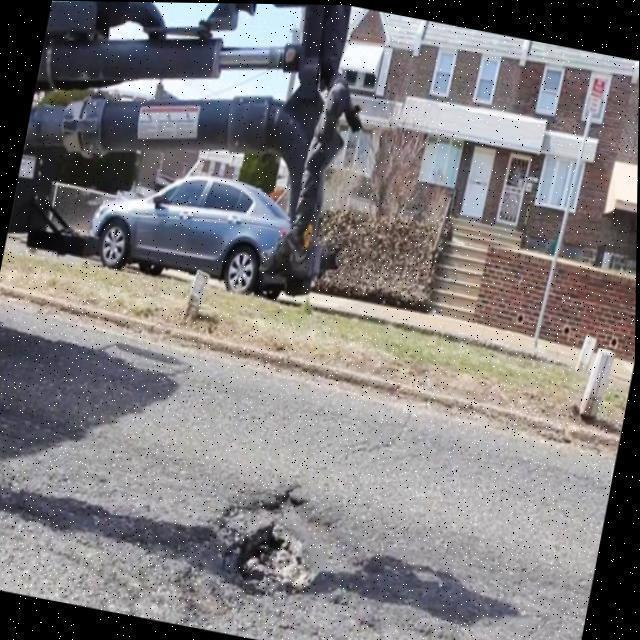Pothole: (184, 493, 372, 622)
